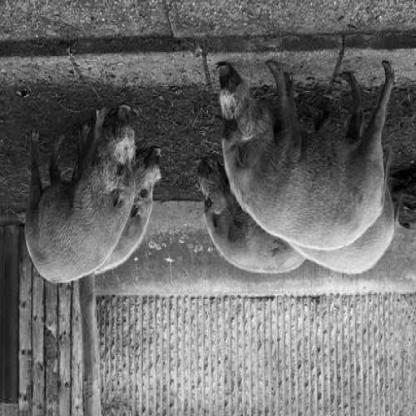boar: (206, 40, 405, 266), (22, 90, 140, 284), (182, 149, 248, 293), (115, 153, 183, 263)
